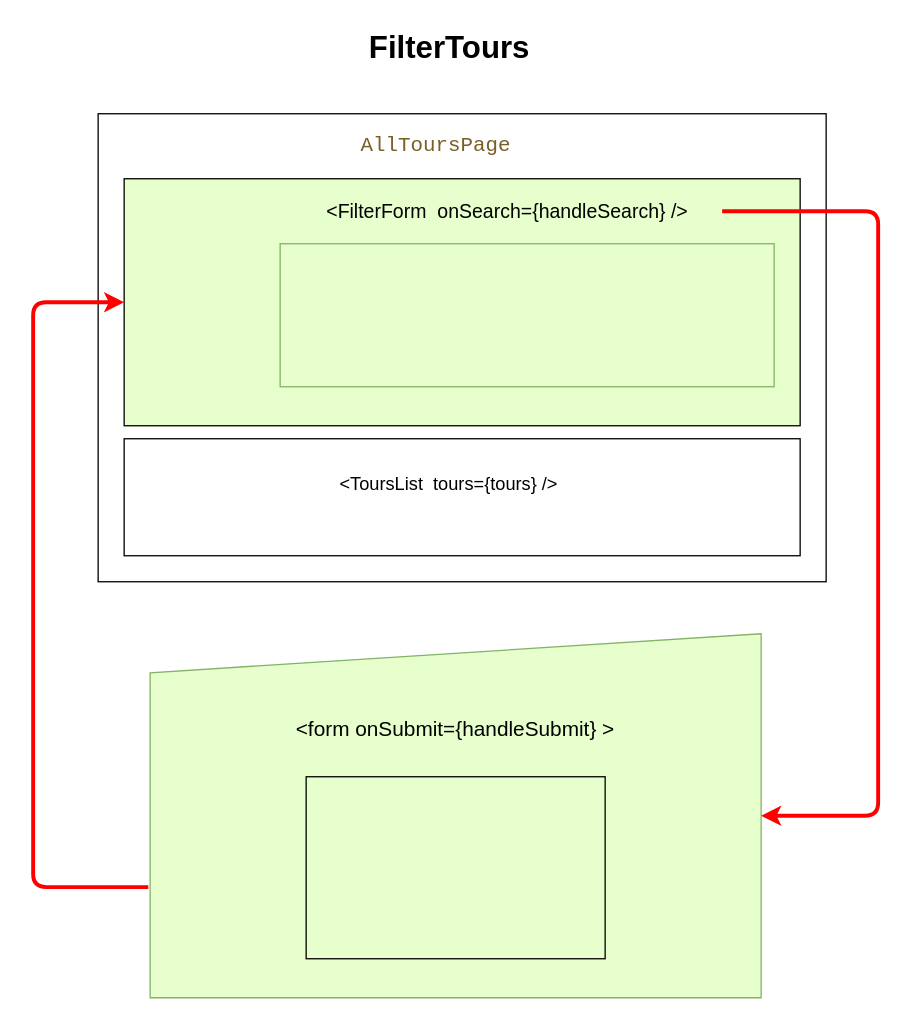
Some shapes in this 913 by 1020 pixel diagram are drawn without their labels. Each missing label, with the box of its shape:
handleSearch (year, month) { fullPath = `/tours/2023/2` navigate(fullPath) }: (279, 242, 774, 387)
handleSubmit(ev) { .... handleSearch(year,month): (305, 775, 605, 959)
